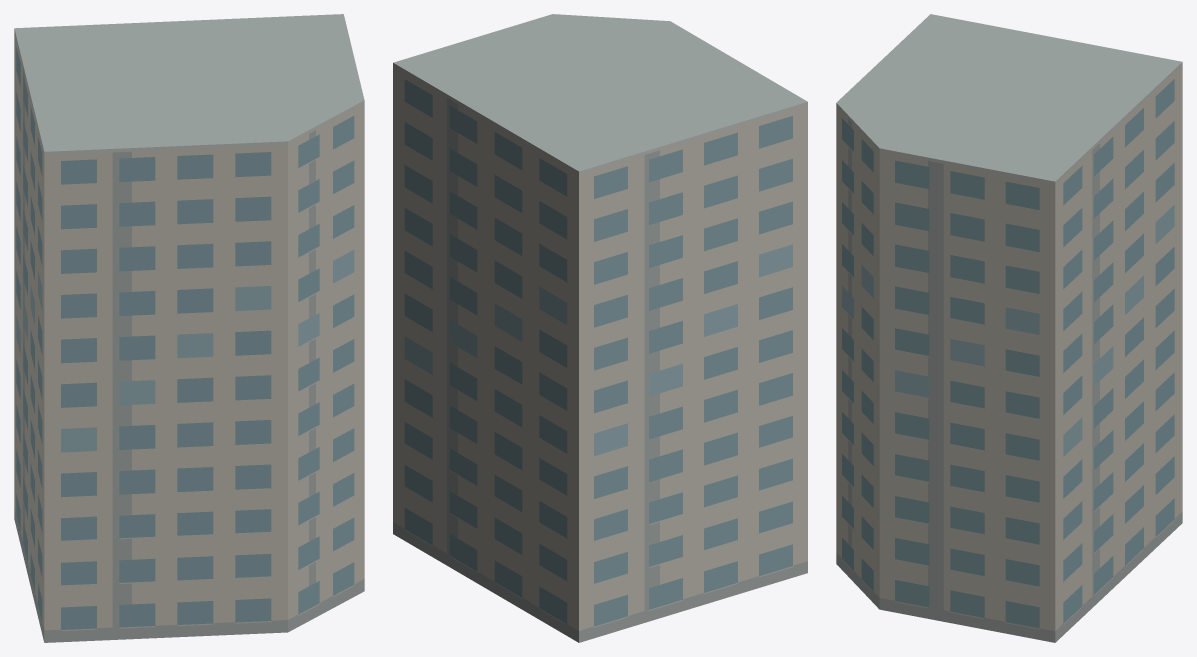
The model's file is residential-dd003cfd-734d-400f-8df3-2a54878cc9d8.glb.
The picture shows the model from 3 angles, left to right: view 1: azimuth 30°, elevation 25°; view 2: azimuth 150°, elevation 25°; view 3: azimuth 270°, elevation 25°; orthographic projection. The views are drawn at different scales.
Parts seen in each view (by area): view 1: residential-dd003cfd-734d-400f-8df3-2a54878cc9d8.tmp; view 2: residential-dd003cfd-734d-400f-8df3-2a54878cc9d8.tmp; view 3: residential-dd003cfd-734d-400f-8df3-2a54878cc9d8.tmp.
Part boxes in pixels (box(x1,y1,x2,y2)): residential-dd003cfd-734d-400f-8df3-2a54878cc9d8.tmp: box(14, 14, 364, 642); residential-dd003cfd-734d-400f-8df3-2a54878cc9d8.tmp: box(393, 14, 807, 642); residential-dd003cfd-734d-400f-8df3-2a54878cc9d8.tmp: box(836, 14, 1182, 642).
Bounding box in the file's own units: 25.73 × 33 × 22.46.
